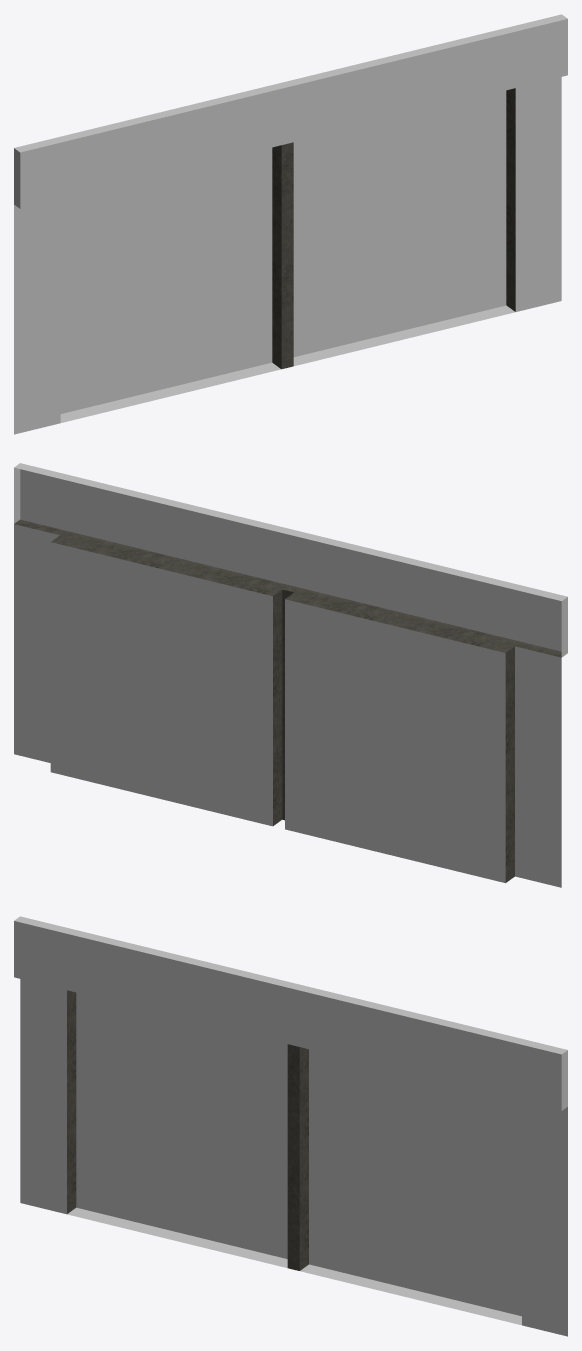
The model's file is CT_door_04.fbx.
3 views of the same model, one above another, from view 1: azimuth 30°, elevation 25°; view 2: azimuth 150°, elevation 25°; view 3: azimuth 330°, elevation 25° (orthographic).
Visible parts, largest first — view 1: CT_door_04; view 2: CT_door_04; view 3: CT_door_04.
Boxes of the visible parts, left/top/right/bottom form: CT_door_04: left=14, top=14, right=567, bottom=434; CT_door_04: left=14, top=463, right=567, bottom=887; CT_door_04: left=14, top=916, right=567, bottom=1336.
Bounding box in the file's own units: 512 × 256 × 25.
